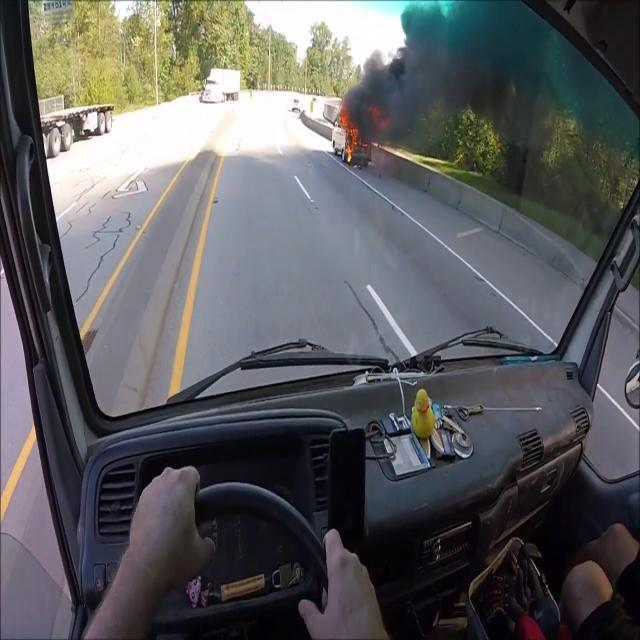Fire: (339, 104, 359, 164)
Smoke: (350, 0, 570, 150)
